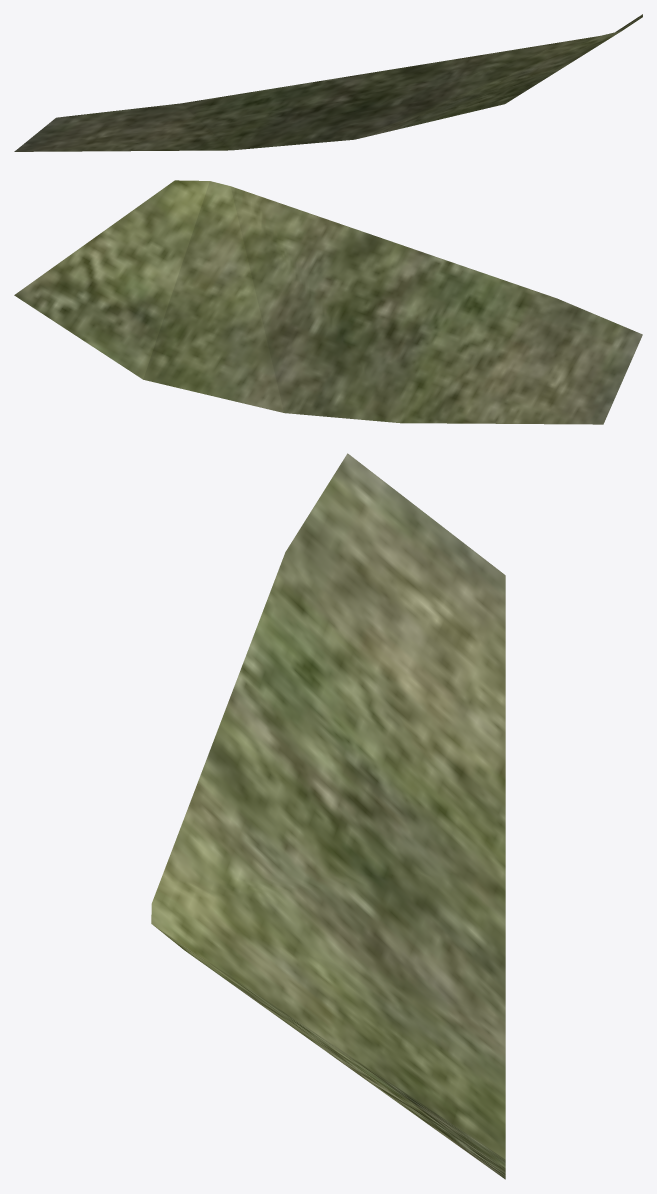
3 views of the same model, one above another, from view 1: azimuth 30°, elevation 25°; view 2: azimuth 150°, elevation 25°; view 3: azimuth 270°, elevation 25° (orthographic). The views are drawn at different scales.
Size of the model in its own units: 4.17 by 0.8689 by 1.09.
Materials: 1 (1 with a texture image).
